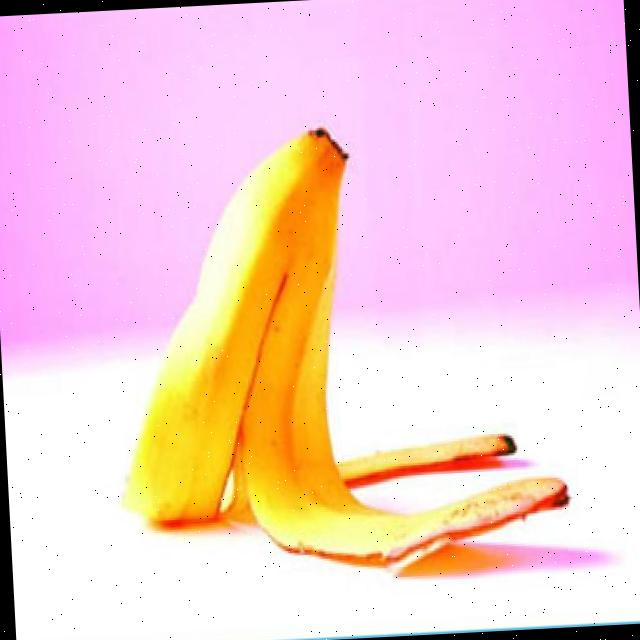banana-peel: (103, 111, 573, 584), (103, 122, 369, 534)
